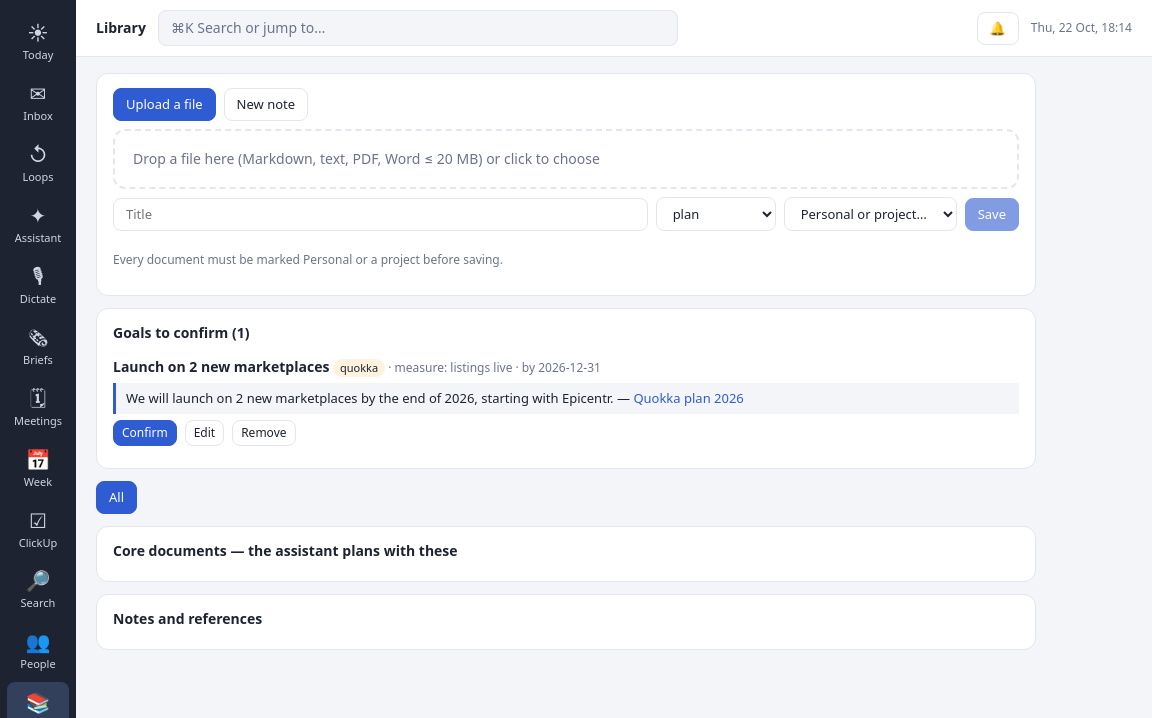
proposed goals show their source paragraph and can be confirmed
The width and height of the screenshot is (1152, 718).
Expected: the heading "Goals to confirm (1)" is shown, [113,323,250,342]
Expected: the text "starting with Epicentr" is shown, [126,389,614,407]
Click the button "Confirm" at (145, 433), box [113,420,177,446]
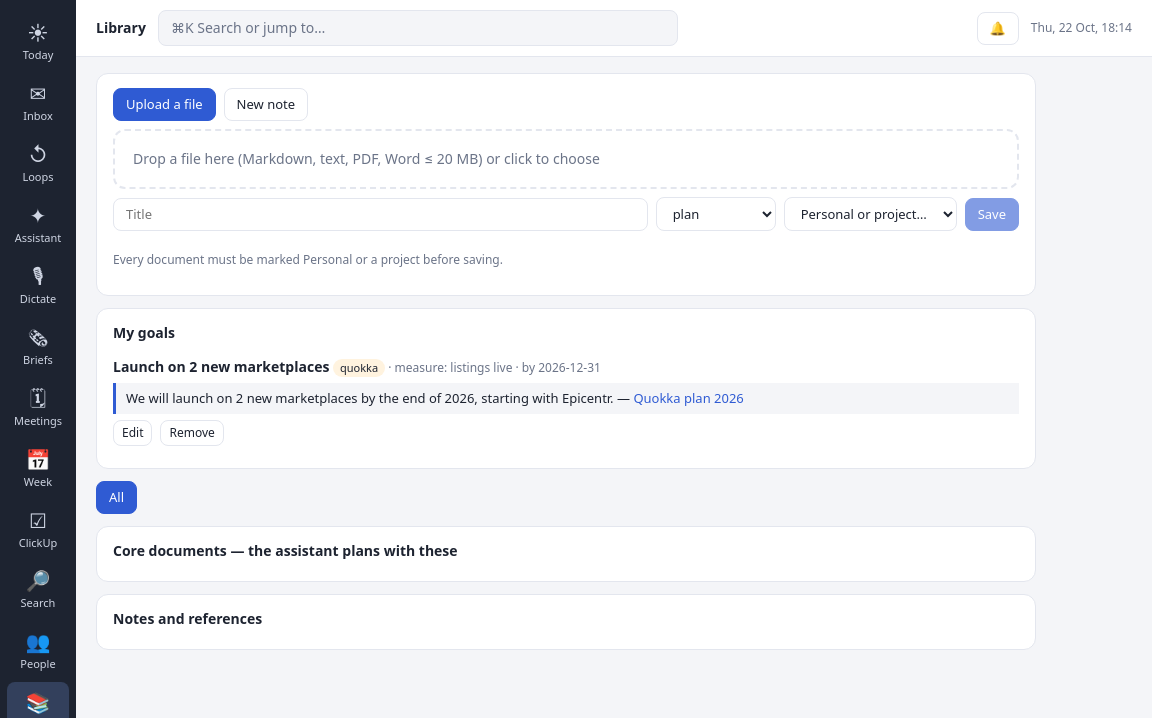
Result: the heading "My goals" is shown at [113,323,175,342]
